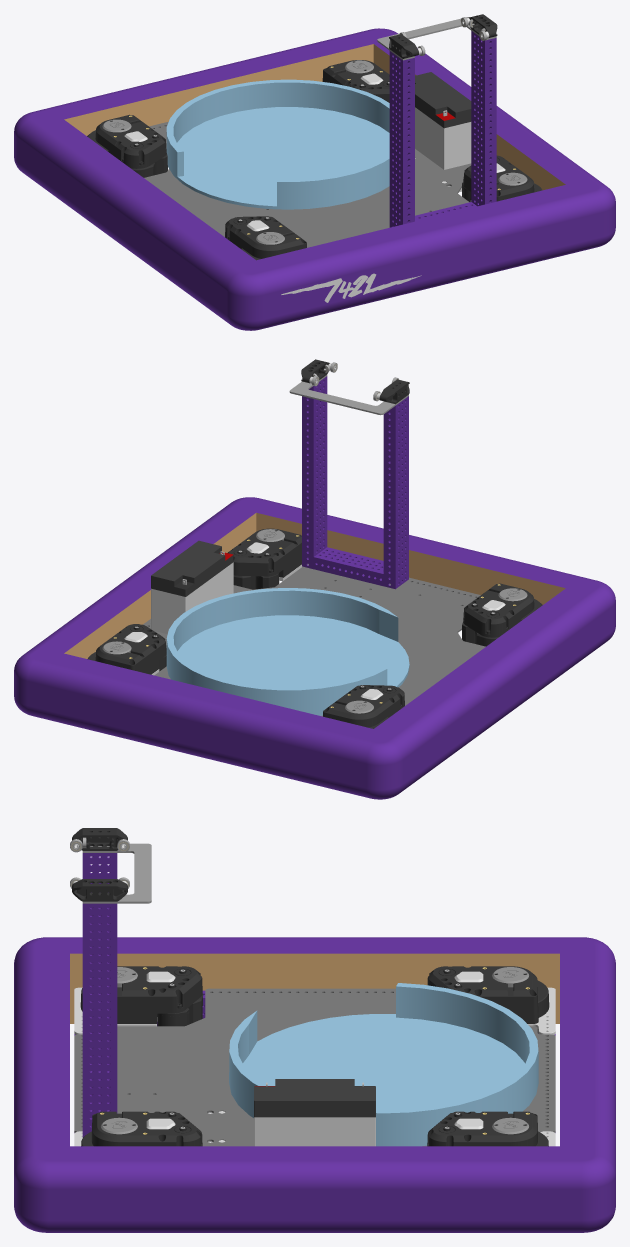
The picture shows the model from 3 angles, top to bottom: view 1: azimuth 30°, elevation 25°; view 2: azimuth 150°, elevation 25°; view 3: azimuth 270°, elevation 25°; orthographic projection. The views are drawn at different scales.
Parts seen in each view (by area): view 1: Part 1 (×5), 0102 - Bellypan, SDS MK5n Top Assembly (A) (×4), Robot Battery, REV-21-2618-P01-revB; view 2: Part 1 (×6), SDS MK5n Top Assembly (A) (×4), 0102 - Bellypan, Robot Battery; view 3: Part 1 (×5), 0102 - Bellypan, SDS MK5n Top Assembly (A) (×4), Robot Battery, REV-21-2618-P01-revB (×2).
Boxes of the visible parts, x1,y1,x2,y2 form: Part 1 (×5): (14, 17, 615, 330); 0102 - Bellypan: (144, 121, 471, 247); SDS MK5n Top Assembly (A) (×4): (87, 60, 542, 260); Robot Battery: (415, 72, 471, 192); REV-21-2618-P01-revB: (389, 34, 418, 58); Part 1 (×6): (14, 374, 615, 799); SDS MK5n Top Assembly (A) (×4): (87, 528, 542, 728); 0102 - Bellypan: (143, 564, 485, 716); Robot Battery: (151, 540, 233, 634); Part 1 (×5): (14, 843, 615, 1232); 0102 - Bellypan: (74, 988, 555, 1146); SDS MK5n Top Assembly (A) (×4): (74, 966, 555, 1146); Robot Battery: (254, 1079, 375, 1146); REV-21-2618-P01-revB (×2): (72, 828, 127, 901).
Bounding box in the file's own units: 0.8382 × 0.5105 × 0.889.
